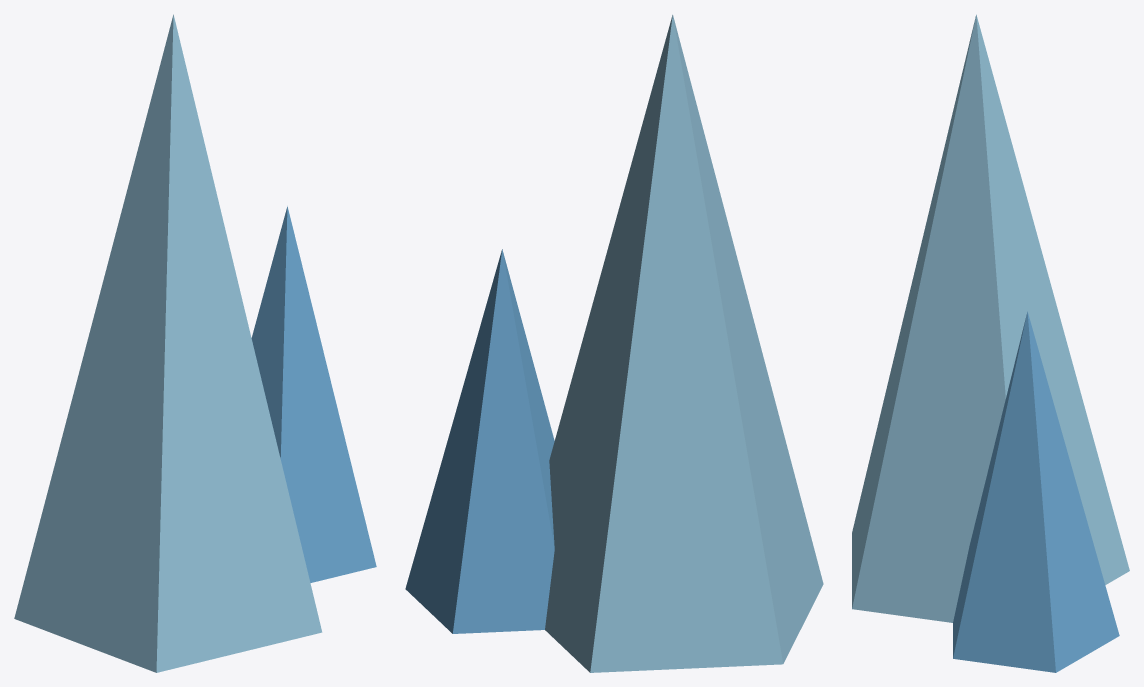
Rendered from stalagmite_small.glb.
3 renders of one model, left to right at view 1: azimuth 30°, elevation 25°; view 2: azimuth 150°, elevation 25°; view 3: azimuth 270°, elevation 25°, orthographic. The views are drawn at different scales.
Visible parts, largest first — view 1: stalagmite_small; view 2: stalagmite_small; view 3: stalagmite_small.
Boxes of the visible parts, bbox=[...] form: stalagmite_small: bbox=[14, 14, 376, 672]; stalagmite_small: bbox=[405, 14, 823, 672]; stalagmite_small: bbox=[852, 14, 1129, 672].
Size of the model in its own units: 0.7565 by 1.2 by 0.5427.
